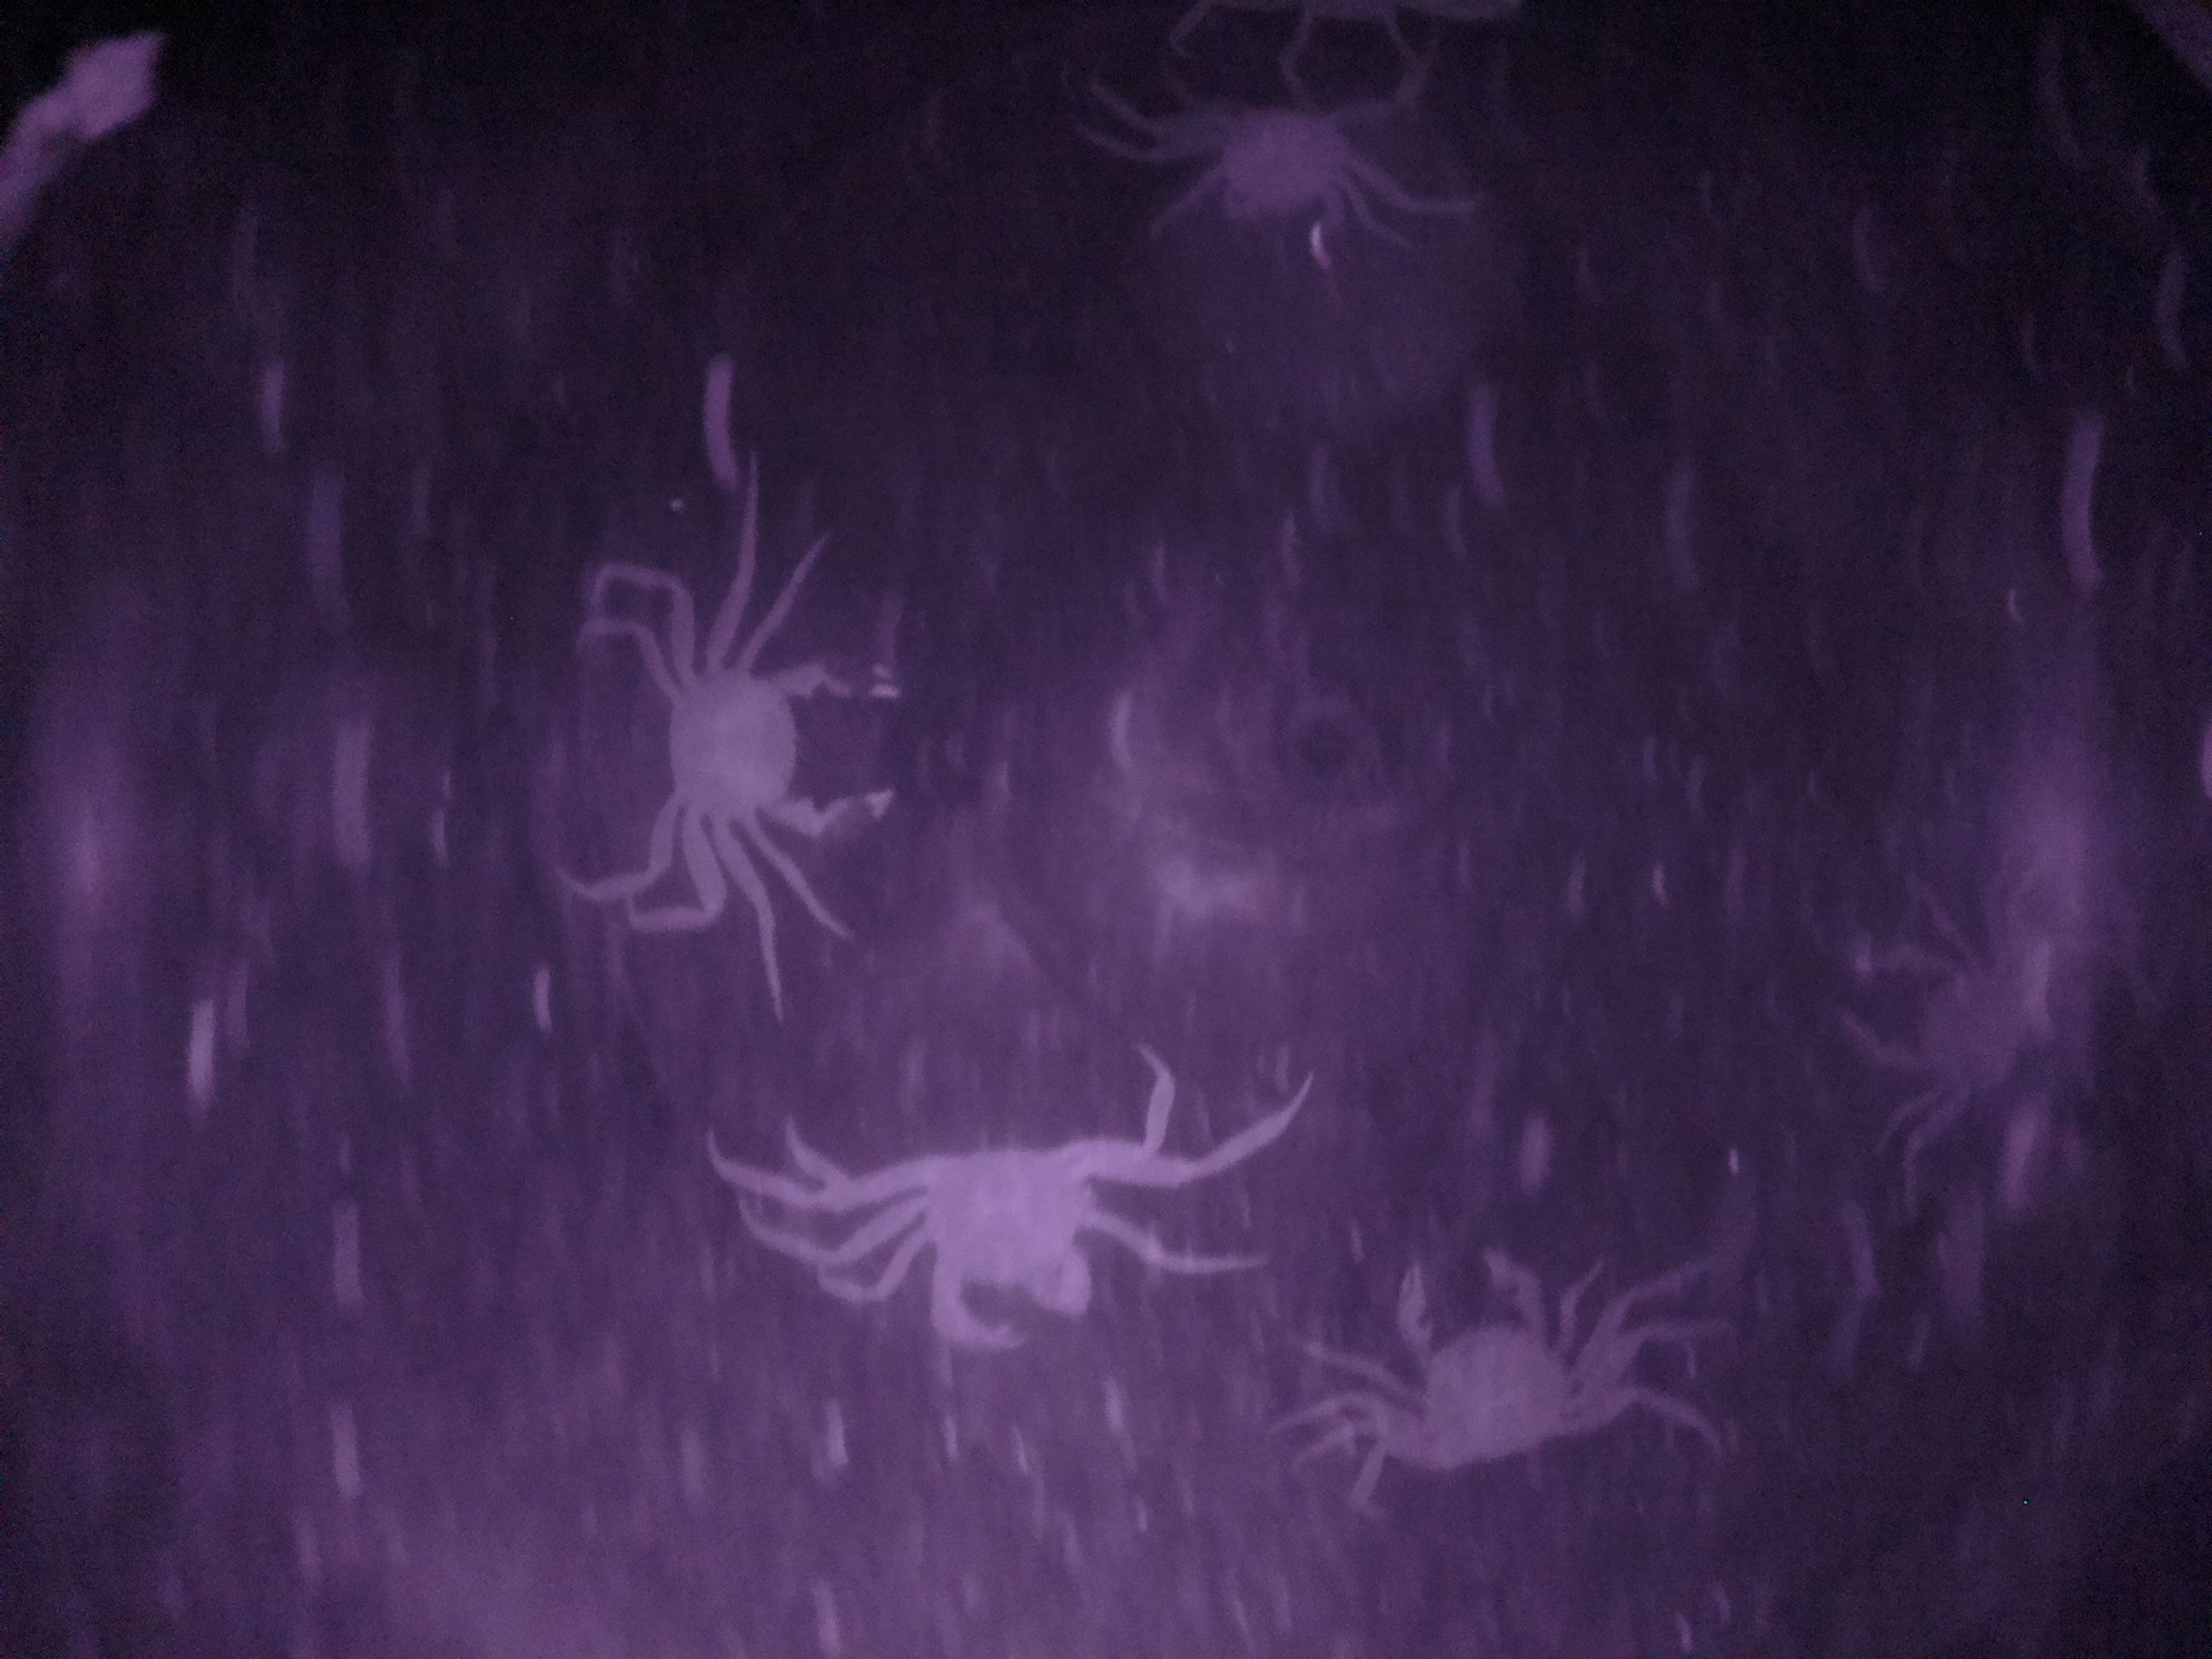Crab: (615, 631, 942, 849), (852, 1108, 1125, 1368), (1352, 1227, 1622, 1488)
